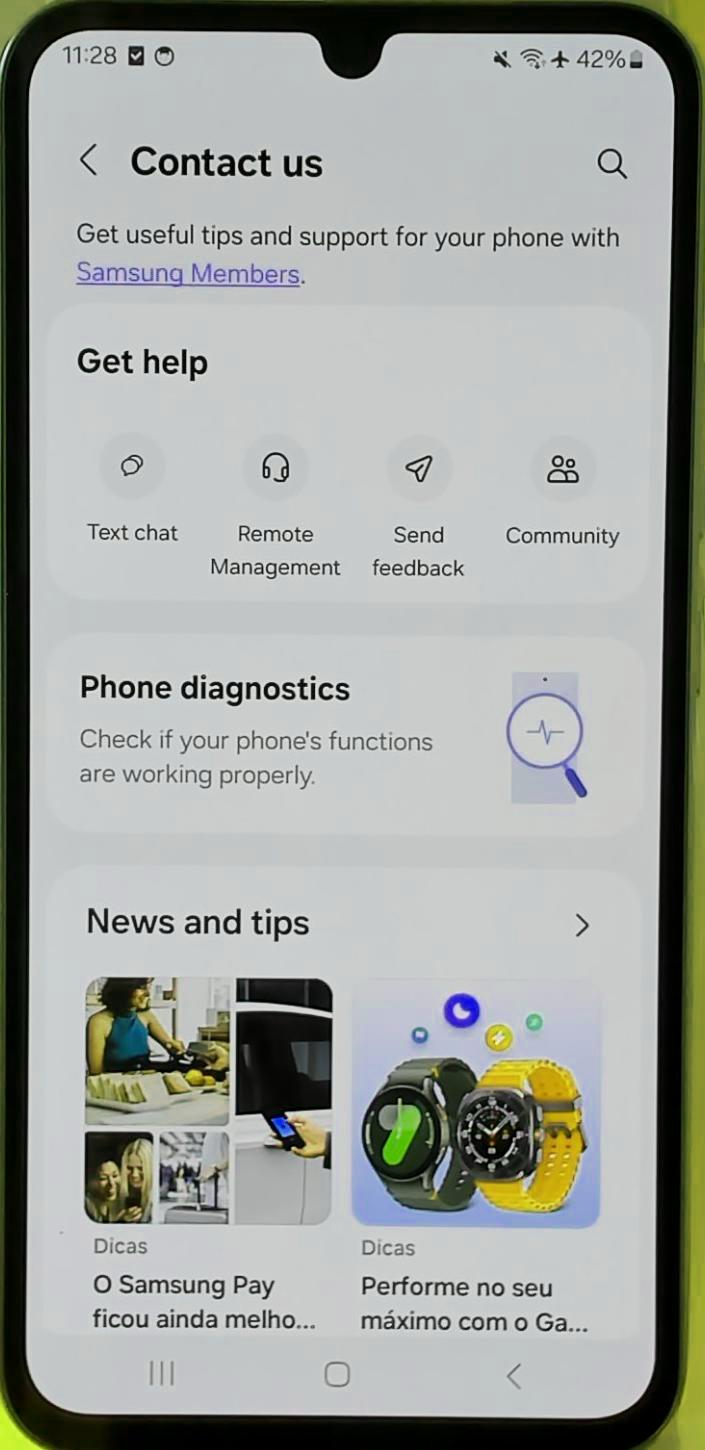CommunBotton: (38, 626, 660, 852), (347, 957, 611, 1236), (75, 963, 339, 1230), (62, 252, 316, 304), (590, 130, 644, 196), (68, 120, 114, 184), (136, 1350, 184, 1396), (317, 1349, 362, 1396), (499, 1356, 538, 1398), (559, 901, 595, 944)
